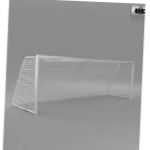goals: (10, 53, 135, 117)
